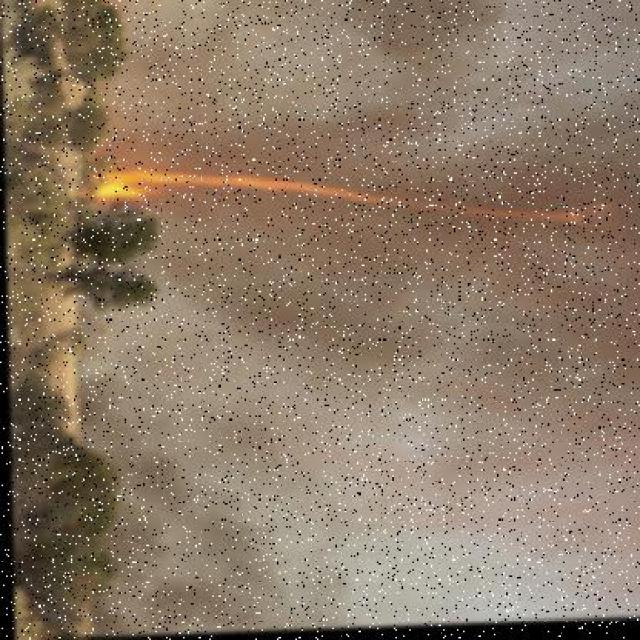fire: (79, 126, 619, 264)
